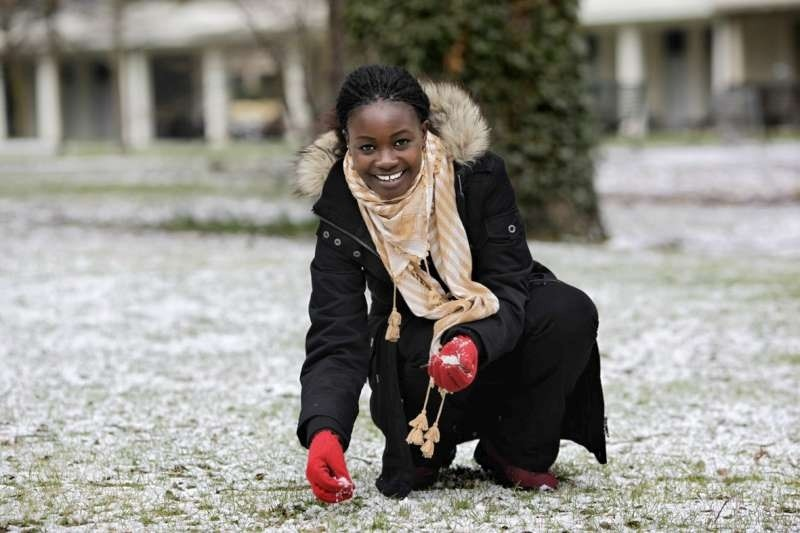face_no_mask: (337, 70, 429, 201)
